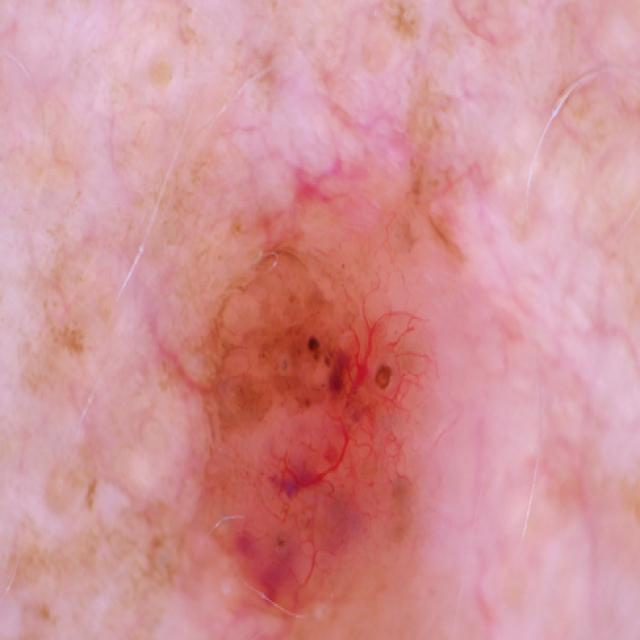Carcinoma: (154, 184, 532, 640)
